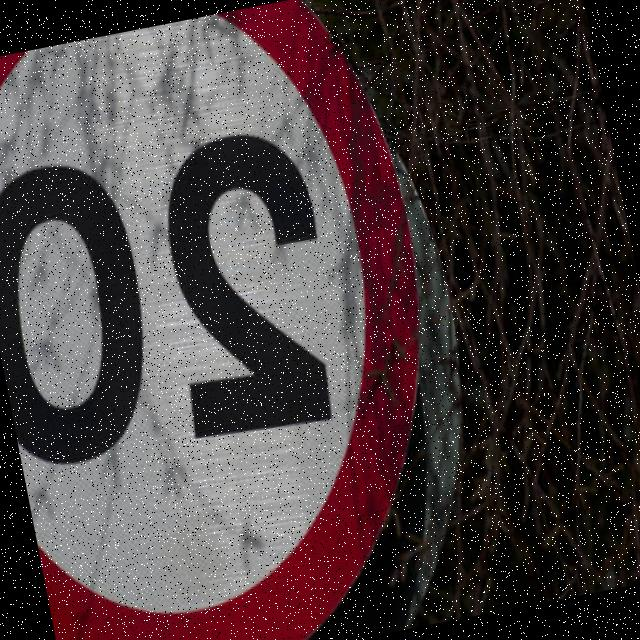speed_limit_20: (0, 0, 485, 640)
